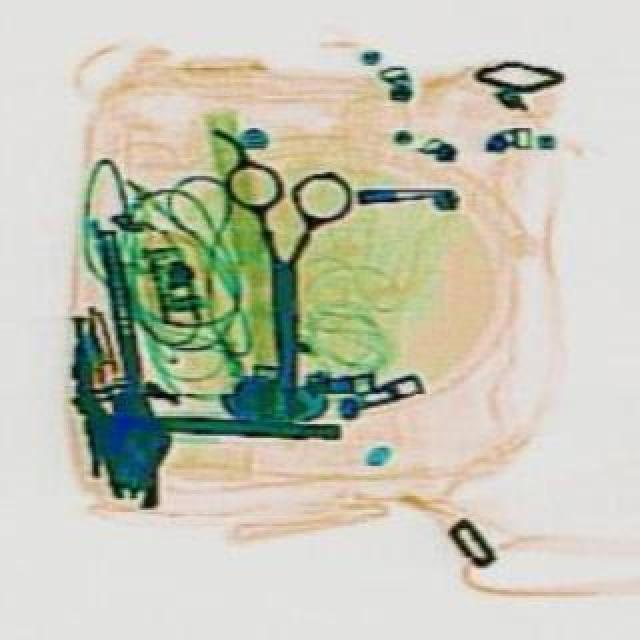pliers: (232, 158, 358, 390)
